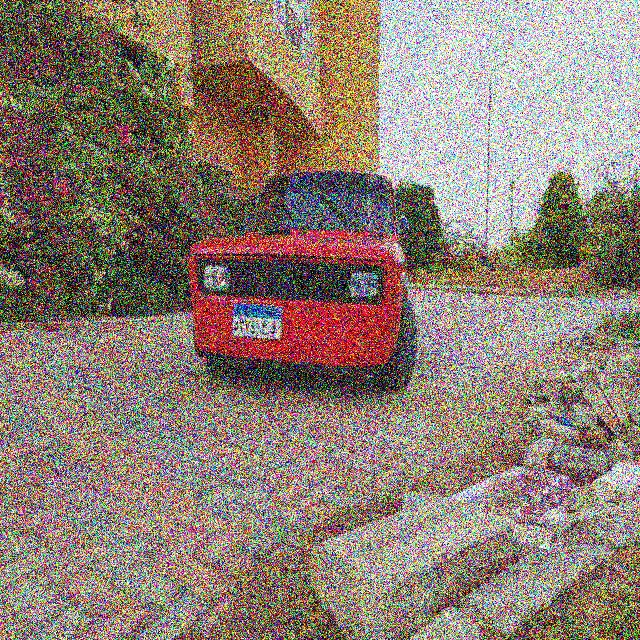License Plate: (232, 302, 283, 341)
